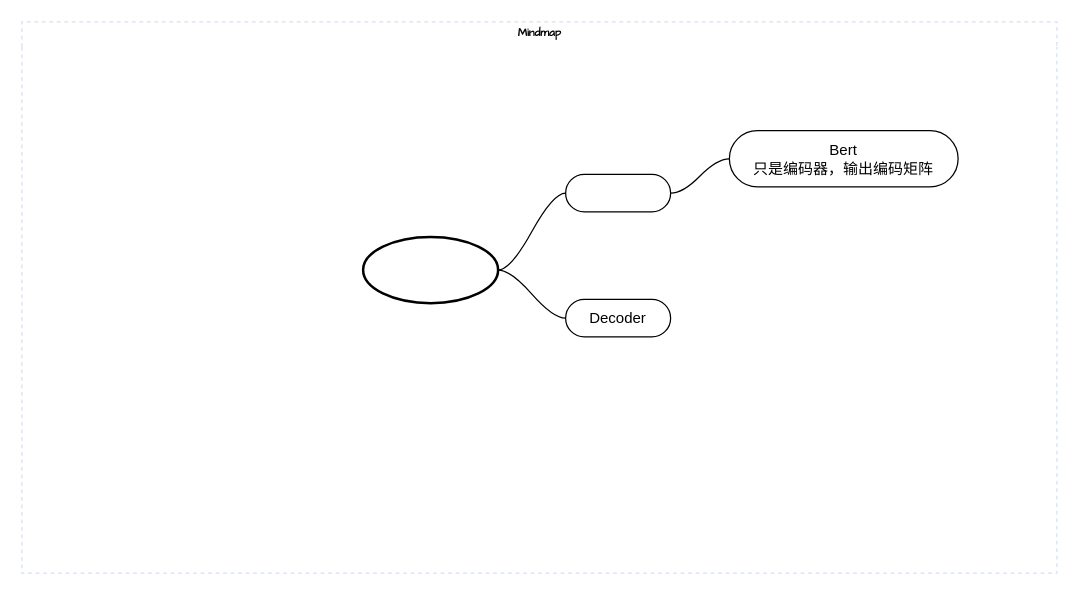
Some shapes in this 1079 by 595 pixel diagram are drawn without their labels. Each missing label, with the centre of its shape:
Encoder: (x=617, y=192)
Transformer: (x=430, y=269)
